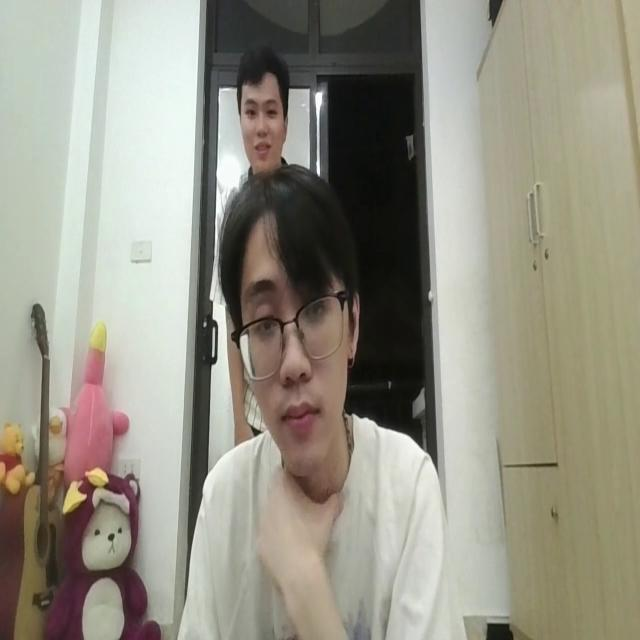extra_person: (234, 48, 290, 172)
student: (173, 163, 453, 640)
